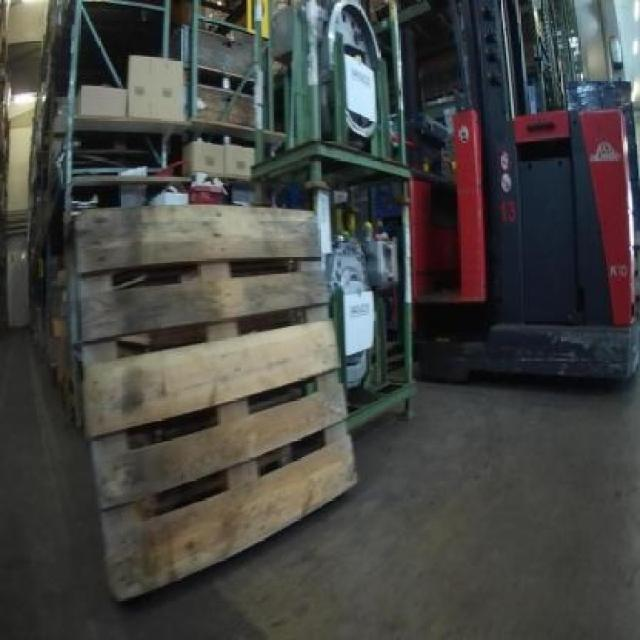pallets: (72, 203, 352, 595), (466, 108, 637, 375)
